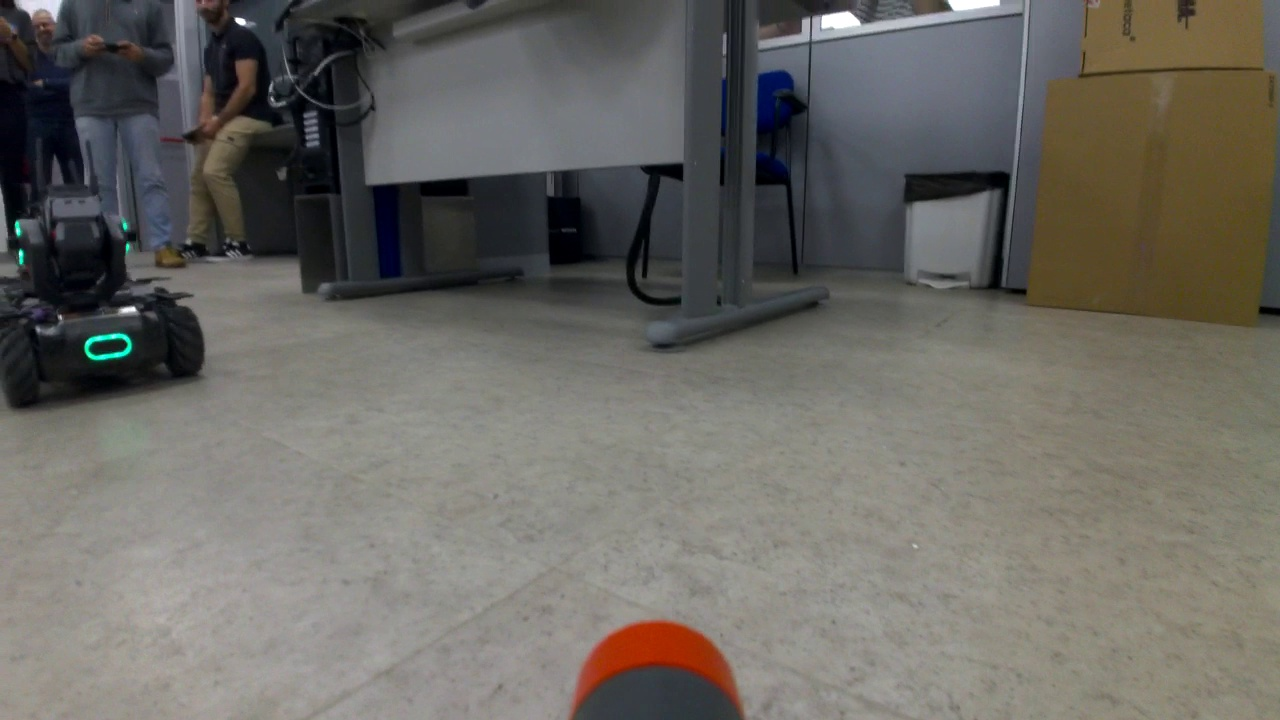robot: (1, 183, 209, 412)
